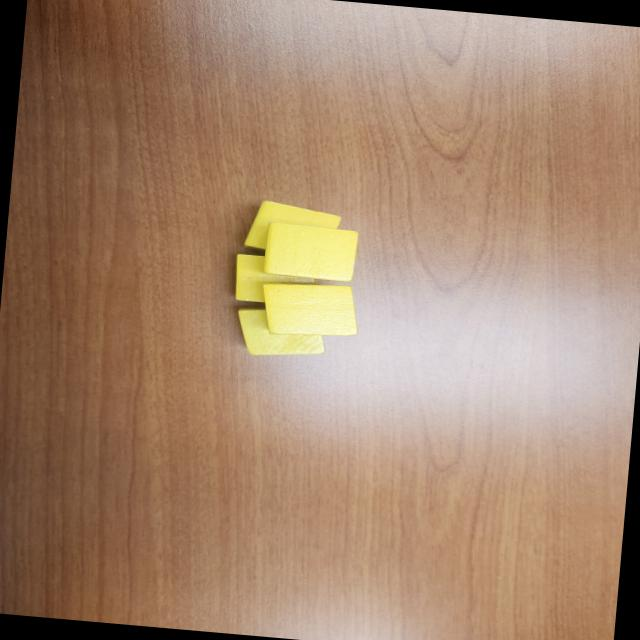yellow: (258, 277, 363, 342), (260, 220, 361, 284), (240, 198, 344, 256), (232, 302, 330, 362), (232, 252, 320, 308)
